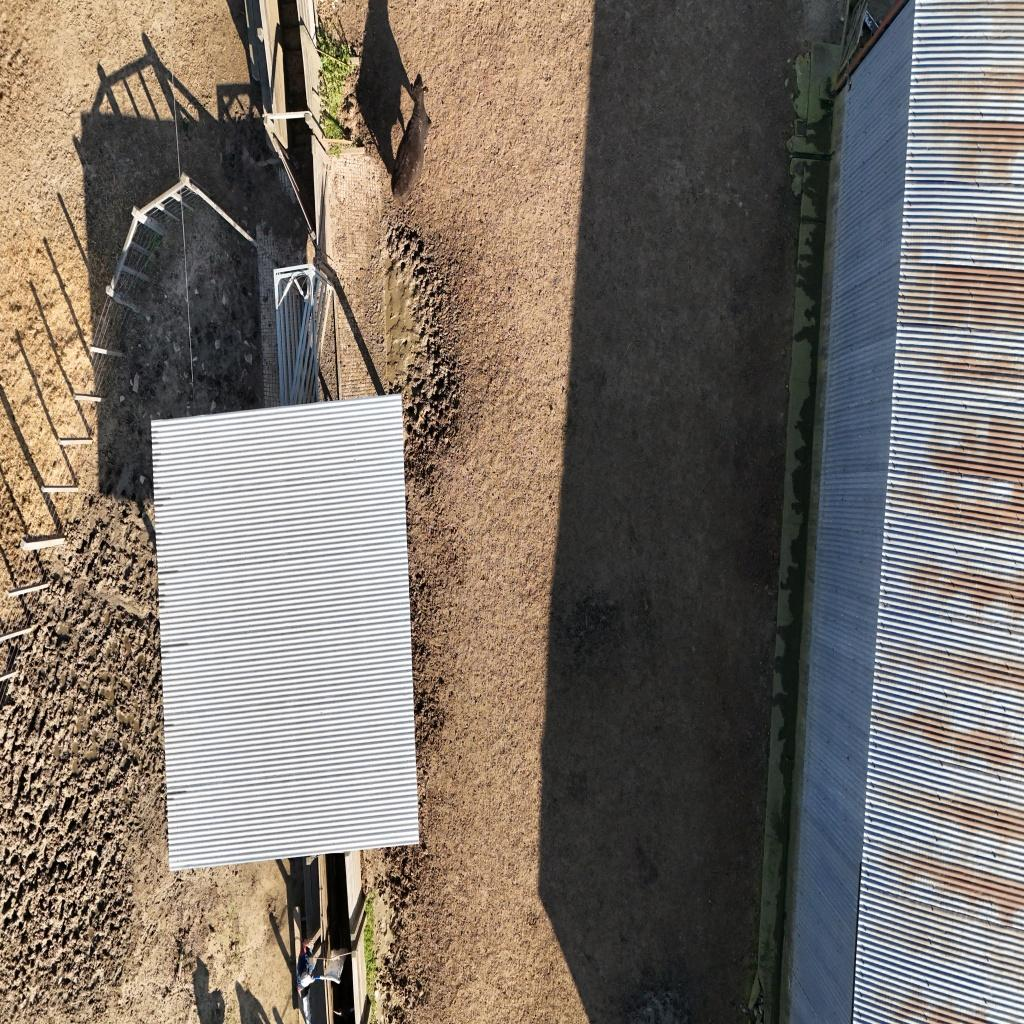cow: (388, 74, 432, 200)
